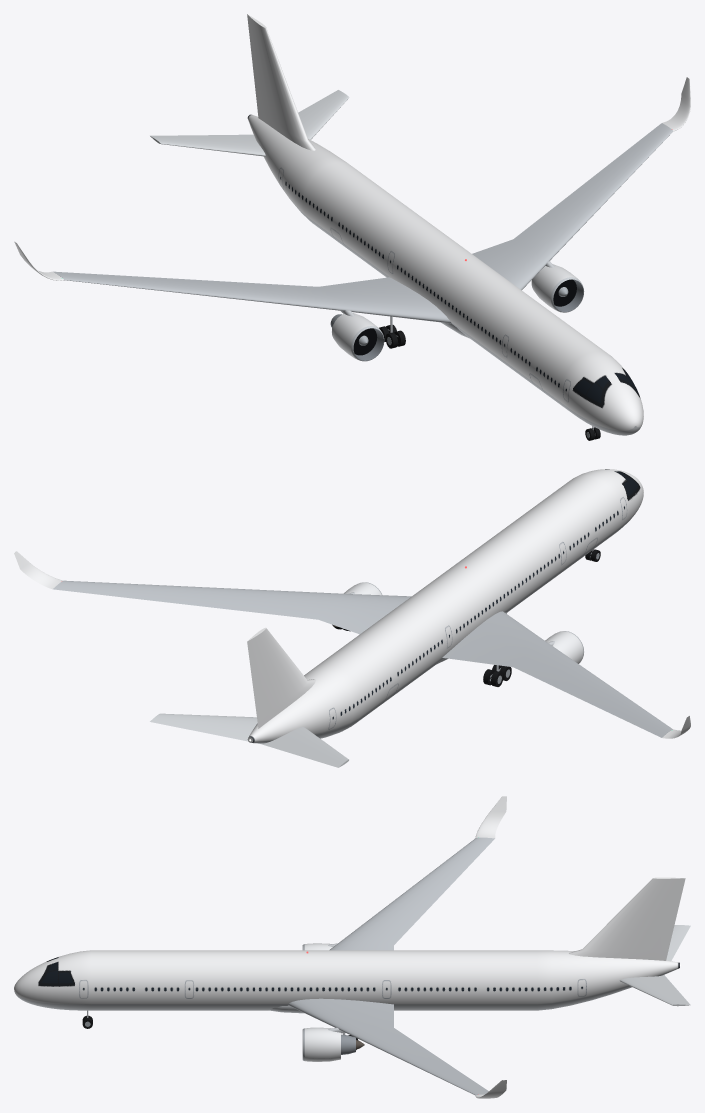
3 renders of one model, top to bottom at view 1: azimuth 30°, elevation 25°; view 2: azimuth 150°, elevation 25°; view 3: azimuth 270°, elevation 25°, orthographic. The views are drawn at different scales.
Visible parts, largest first — view 1: body, gear; view 2: body, gear; view 3: body.
Part boxes in pixels (left/top/right/bottom): body: left=14, top=14, right=690, bottom=435; gear: left=379, top=316, right=600, bottom=440; body: left=14, top=469, right=690, bottom=767; gear: left=483, top=549, right=600, bottom=686; body: left=14, top=796, right=690, bottom=1098.
Bounding box in the file's own units: 67.39 × 16.46 × 67.92.
19 materials, 1 textured.
